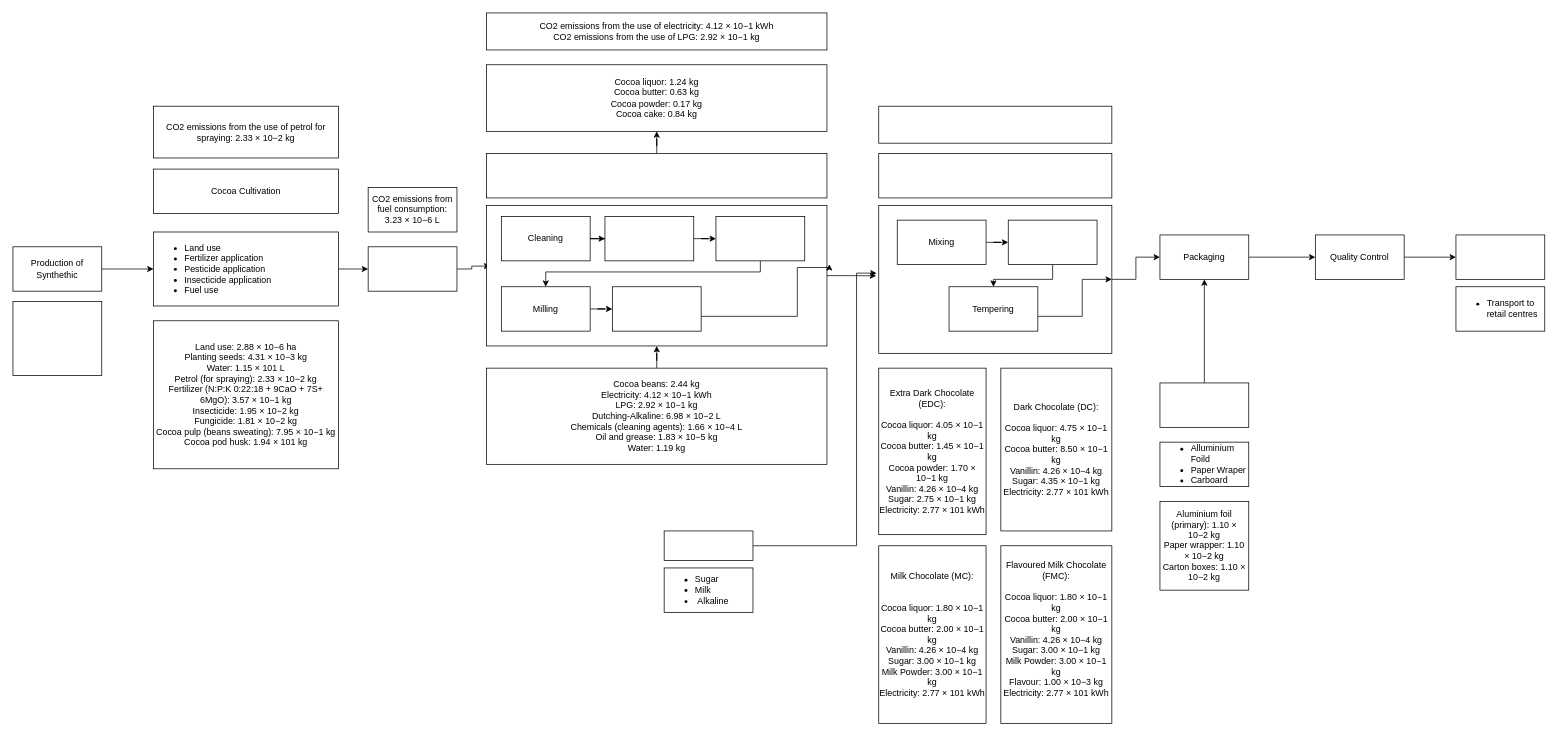
This 1558x736 diagram has some shape labels left out. Each missing label, with the centre of its shape:
"Chocolate manufacturing" goes at point 995,175.
"CO2 emissions from the use of electricity: 2.77 × 10^1 kWh" goes at point 995,124.
"Cocoa Bean processing" goes at point 656,175.
"Conching" goes at point 1052,242.
"Distribution" goes at point 1500,256.
"Drying" goes at point 649,238.
"Fertilizer Insceticides Pesticides" goes at point 57,338.
"Pressing" goes at point 656,308.
"Production of Ingredients" goes at point 708,545.
"Production of packaging" goes at point 1204,404.
"Roasting" goes at point 760,238.
"Transportation of cocoa Beans" goes at point 412,268.
